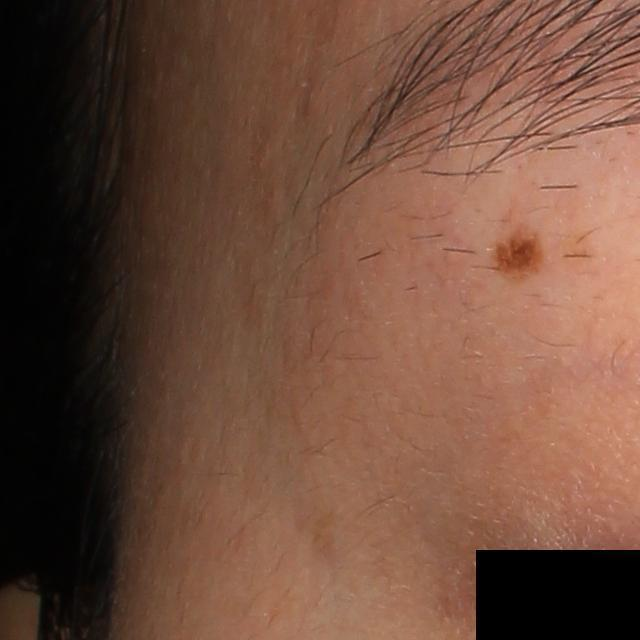nevus: (493, 218, 548, 284)
